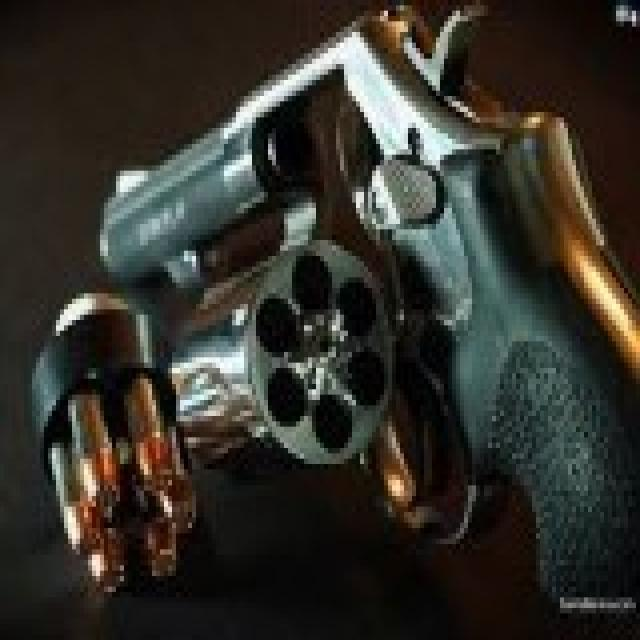Gun: (97, 84, 631, 576)
